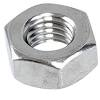Thread: (20, 8, 81, 59)
